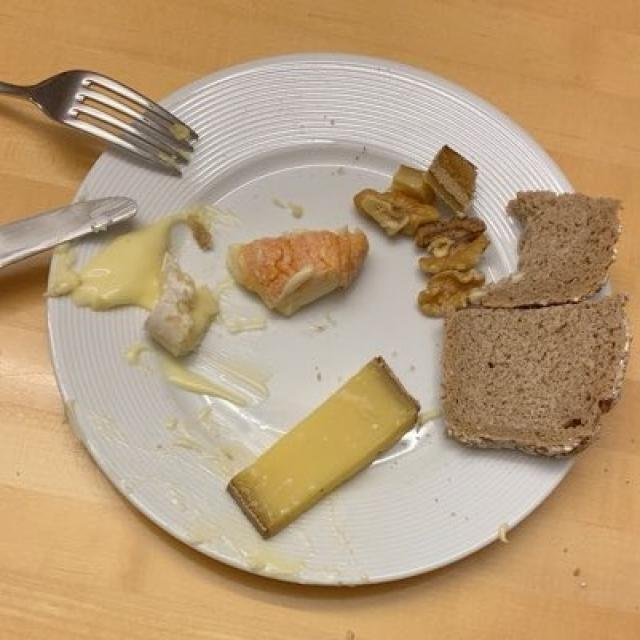bread: (454, 196, 618, 456)
cheese: (42, 214, 370, 358), (217, 346, 425, 545)
walnut: (372, 169, 482, 316)
